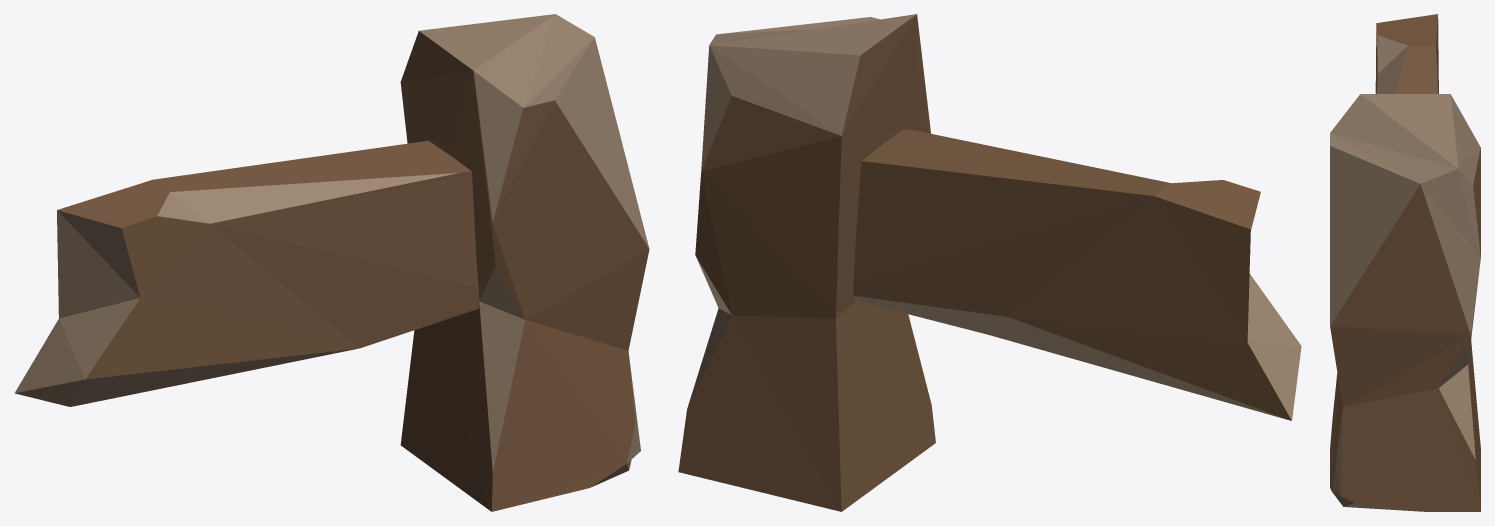
Rendered from Railing_C_03.FBX.
3 views of the same model, side by side, from view 1: azimuth 30°, elevation 25°; view 2: azimuth 150°, elevation 25°; view 3: azimuth 270°, elevation 25° (orthographic). The views are drawn at different scales.
Visible parts, largest first — view 1: Railing_C_03; view 2: Railing_C_03; view 3: Railing_C_03.
Boxes of the visible parts, bbox=[...] form: Railing_C_03: bbox=[15, 14, 649, 511]; Railing_C_03: bbox=[678, 14, 1301, 511]; Railing_C_03: bbox=[1330, 14, 1480, 511].
Size of the model in its own units: 1.21 by 0.8732 by 0.337.
